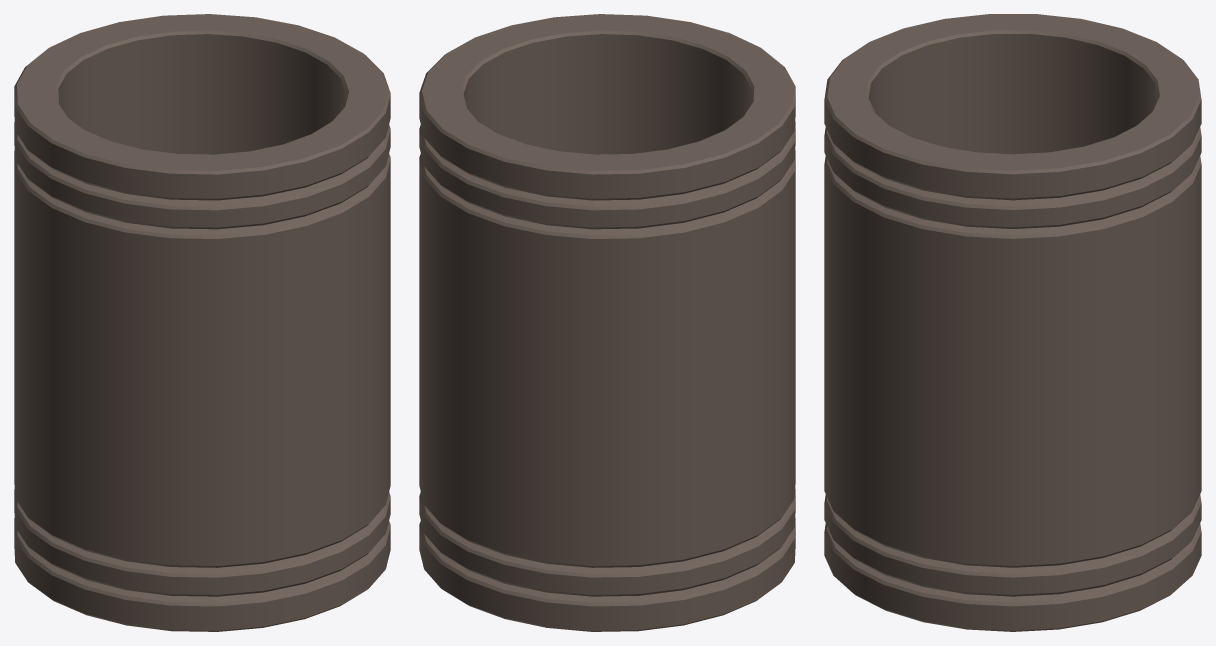
File: CYLINDRICAL_PEN_HOLDER.fbx
The picture shows the model from 3 angles, left to right: view 1: azimuth 30°, elevation 25°; view 2: azimuth 150°, elevation 25°; view 3: azimuth 270°, elevation 25°; orthographic projection.
Visible parts, largest first — view 1: Cylindrical_Pen_holder; view 2: Cylindrical_Pen_holder; view 3: Cylindrical_Pen_holder.
Part boxes in pixels (bbox=[...]): Cylindrical_Pen_holder: bbox=[14, 14, 390, 631]; Cylindrical_Pen_holder: bbox=[419, 14, 795, 631]; Cylindrical_Pen_holder: bbox=[824, 14, 1201, 631].
Size of the model in its own units: 0.195 by 0.2637 by 0.1954.
